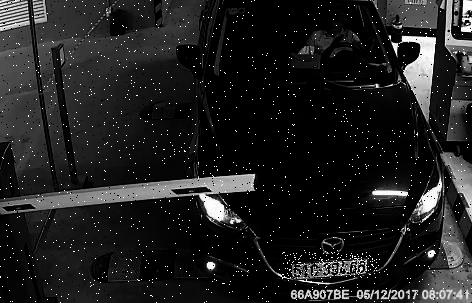License-plate: (284, 253, 379, 279)
